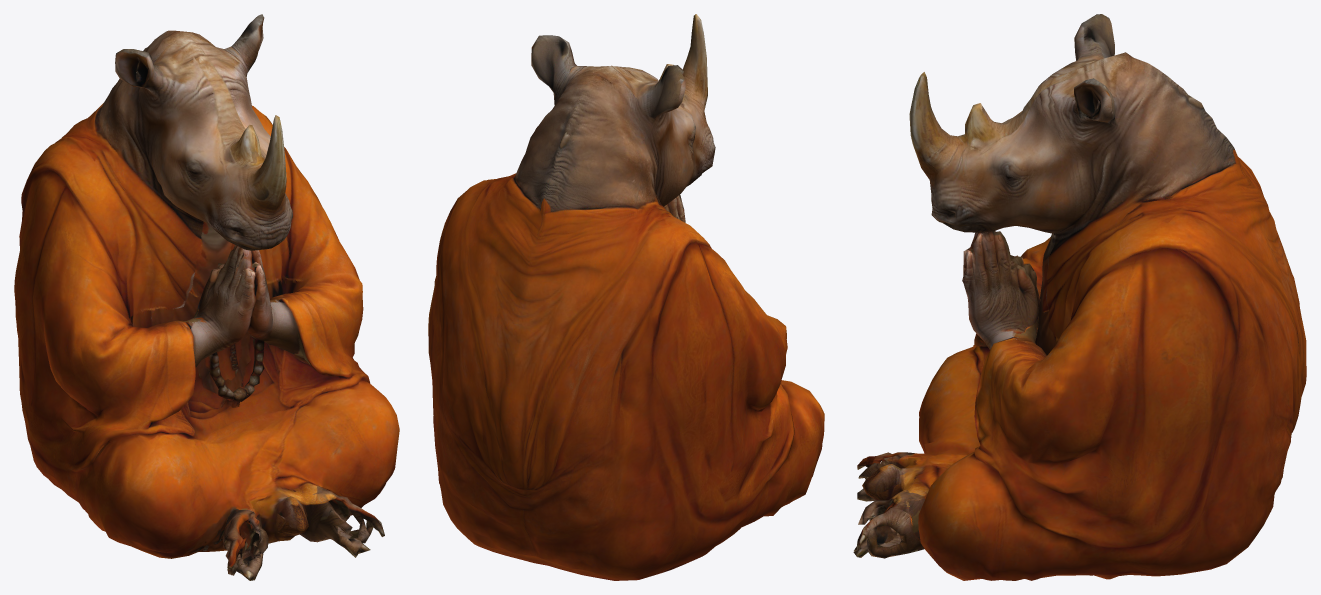
File: rhino.glb
3 views of the same model, side by side, from view 1: azimuth 30°, elevation 25°; view 2: azimuth 150°, elevation 25°; view 3: azimuth 270°, elevation 25° (orthographic). The views are drawn at different scales.
Size of the model in its own units: 1.35 by 1.99 by 1.69.
1 material, 1 textured.
